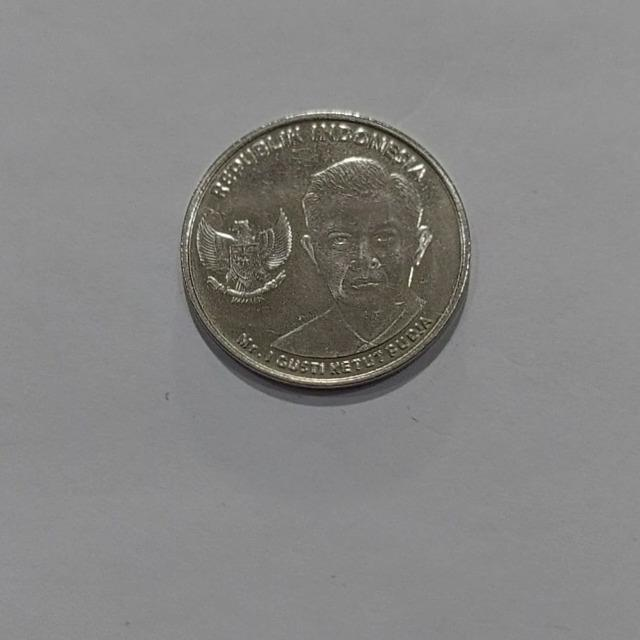Rp100: (178, 109, 473, 391), (265, 153, 436, 359)
